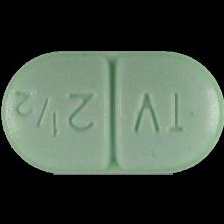70786-1714: (0, 0, 224, 224)
